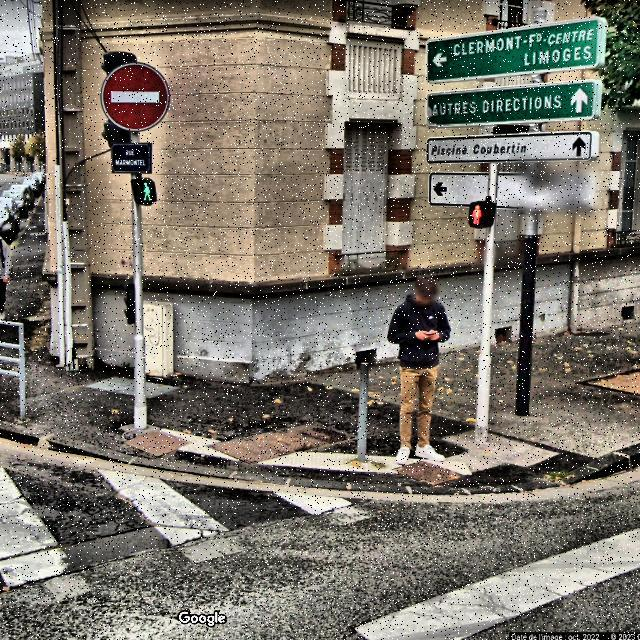green_light: (140, 179, 152, 203)
